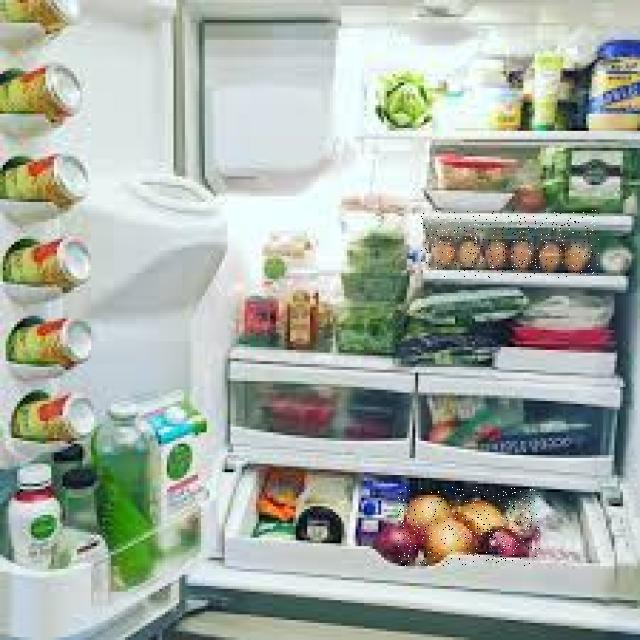eggs: (422, 210, 600, 278)
milk: (136, 389, 213, 555)
onion: (398, 487, 540, 566)
